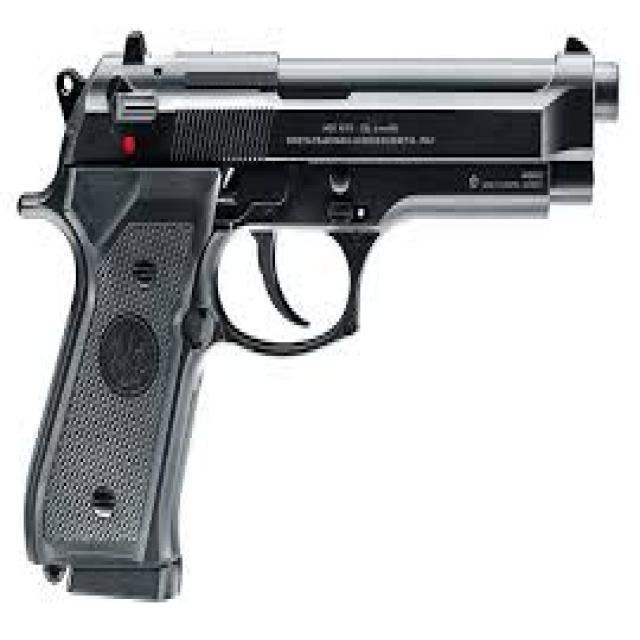pistol: (11, 24, 624, 608)
